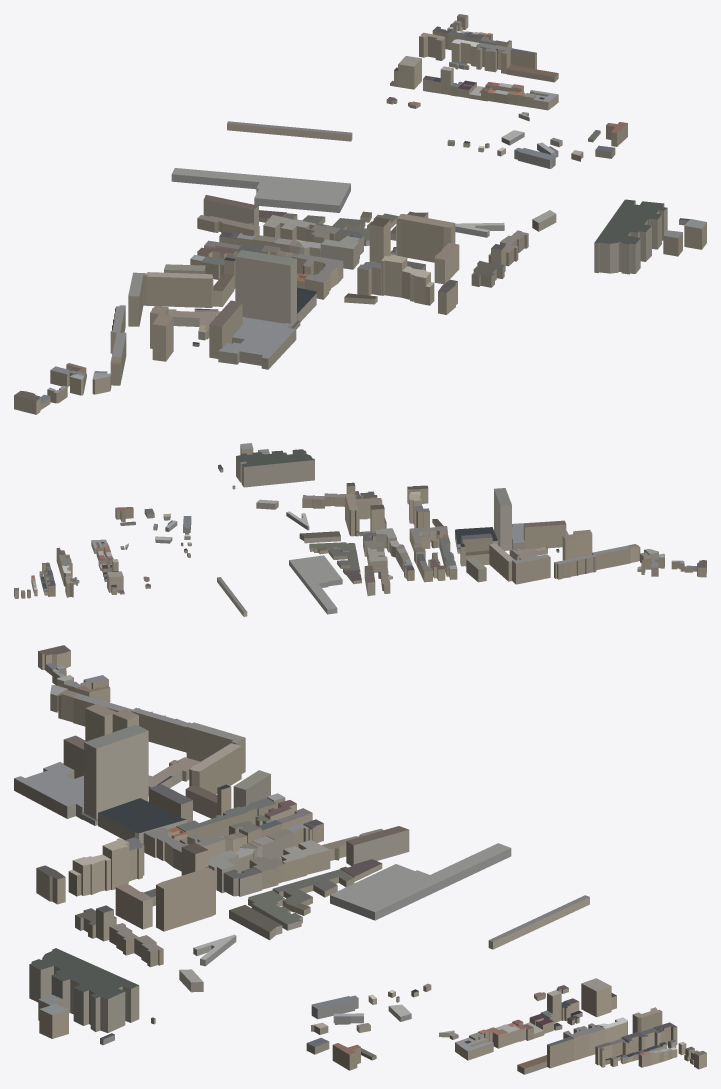
3 views of the same model, one above another, from view 1: azimuth 30°, elevation 25°; view 2: azimuth 150°, elevation 25°; view 3: azimuth 270°, elevation 25° (orthographic). The views are drawn at different scales.
Visible parts, largest first — view 1: tuile; view 2: tuile; view 3: tuile.
Part boxes in pixels (bbox=[...]): tuile: bbox=[14, 14, 706, 414]; tuile: bbox=[14, 443, 706, 616]; tuile: bbox=[14, 645, 706, 1074].
Bounding box in the file's own units: 998 × 89.45 × 707.
